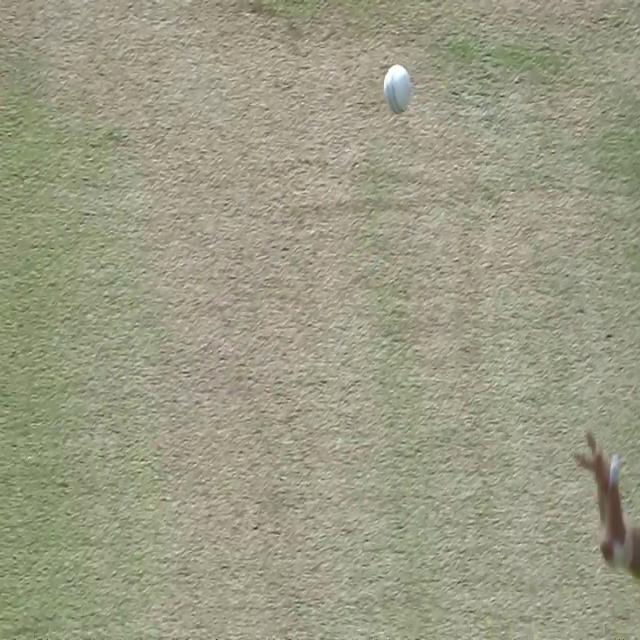ball: (382, 62, 412, 116)
